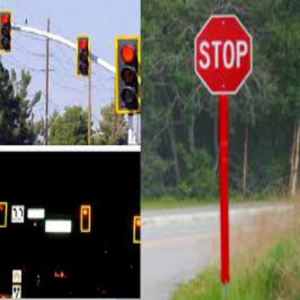STOP_SIGN: (193, 14, 252, 94)
